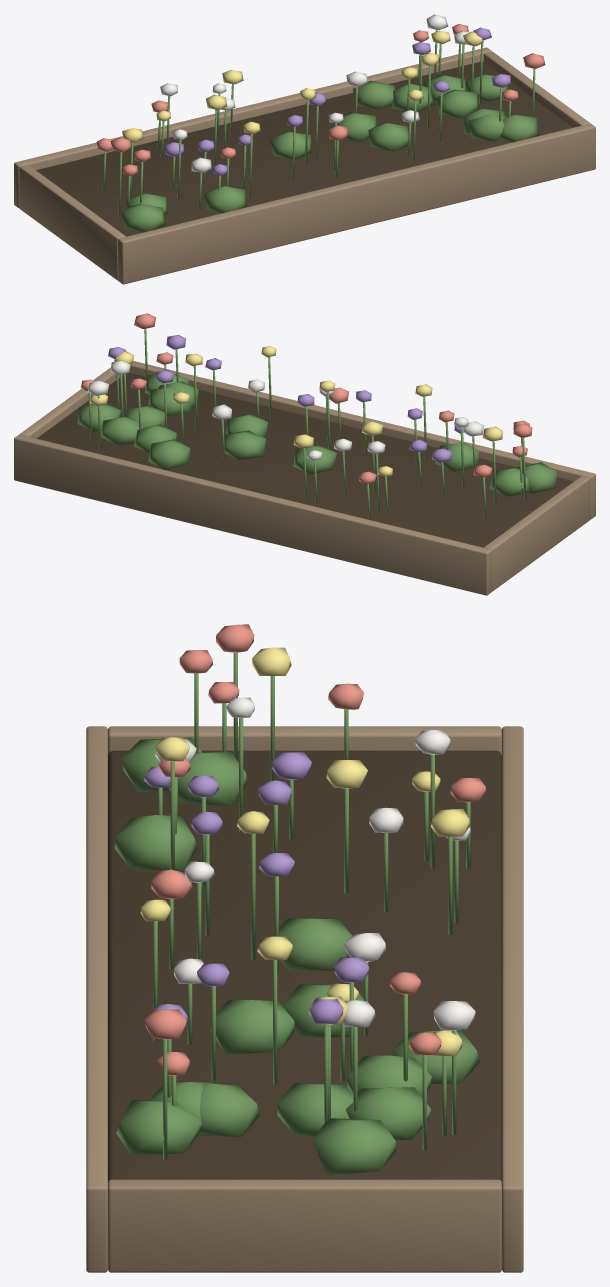
File: flower-bed-raised.glb
The picture shows the model from 3 angles, top to bottom: view 1: azimuth 30°, elevation 25°; view 2: azimuth 150°, elevation 25°; view 3: azimuth 270°, elevation 25°; orthographic projection. The views are drawn at different scales.
Visible parts, largest first — view 1: Raised bed soil, Timber edging board, Timber edging board.002, Timber edging board.001, Timber edging board.003, Leaf clump.013, Leaf clump.010, Leaf clump.004, Leaf clump.008, Leaf clump.003, Leaf clump.012, Leaf clump.005 (+6 smaller); view 2: Raised bed soil, Timber edging board.001, Timber edging board.002, Timber edging board, Timber edging board.003, Leaf clump.002, Leaf clump.003, Leaf clump.011, Leaf clump.012, Leaf clump.001, Leaf clump.013, Leaf clump.009 (+5 smaller); view 3: Raised bed soil, Timber edging board.003, Timber edging board, Timber edging board.001, Timber edging board.002, Leaf clump, Leaf clump.005, Leaf clump.004, Leaf clump.010, Leaf clump.012, Leaf clump.011, Leaf clump.008 (+16 smaller).
Part boxes in pixels (bbox=[...]): Raised bed soil: bbox=[36, 62, 572, 236]; Timber edging board: bbox=[118, 123, 595, 284]; Timber edging board.002: bbox=[19, 164, 125, 280]; Timber edging board.001: bbox=[14, 47, 491, 207]; Timber edging board.003: bbox=[483, 51, 590, 127]; Leaf clump.013: bbox=[121, 204, 165, 231]; Leaf clump.010: bbox=[368, 122, 412, 151]; Leaf clump.004: bbox=[204, 186, 246, 213]; Leaf clump.008: bbox=[437, 89, 478, 118]; Leaf clump.003: bbox=[352, 80, 394, 109]; Leaf clump.012: bbox=[270, 131, 311, 159]; Leaf clump.005: bbox=[498, 113, 539, 142]; Raised bed soil: bbox=[37, 373, 573, 547]; Timber edging board.001: bbox=[14, 434, 491, 595]; Timber edging board.002: bbox=[484, 476, 590, 591]; Timber edging board: bbox=[129, 361, 595, 519]; Timber edging board.003: bbox=[19, 367, 123, 438]; Leaf clump.002: bbox=[224, 430, 265, 460]; Leaf clump.003: bbox=[148, 439, 190, 470]; Leaf clump.011: bbox=[101, 416, 143, 445]; Leaf clump.012: bbox=[293, 445, 336, 474]; Leaf clump.001: bbox=[489, 467, 529, 496]; Leaf clump.013: bbox=[517, 462, 556, 493]; Leaf clump.009: bbox=[148, 387, 191, 416]; Raised bed soil: bbox=[108, 750, 501, 1181]; Timber edging board.003: bbox=[108, 1179, 501, 1272]; Timber edging board: bbox=[86, 726, 107, 1272]; Timber edging board.001: bbox=[502, 726, 523, 1272]; Timber edging board.002: bbox=[108, 726, 501, 755]; Leaf clump: bbox=[312, 1118, 396, 1175]; Leaf clump.005: bbox=[116, 1100, 200, 1155]; Leaf clump.004: bbox=[114, 815, 197, 871]; Leaf clump.010: bbox=[211, 1000, 294, 1054]; Leaf clump.012: bbox=[272, 918, 352, 970]; Leaf clump.011: bbox=[346, 1087, 430, 1139]; Leaf clump.008: bbox=[277, 1083, 353, 1135].
Size of the model in its own units: 2 by 0.45 by 0.8.
